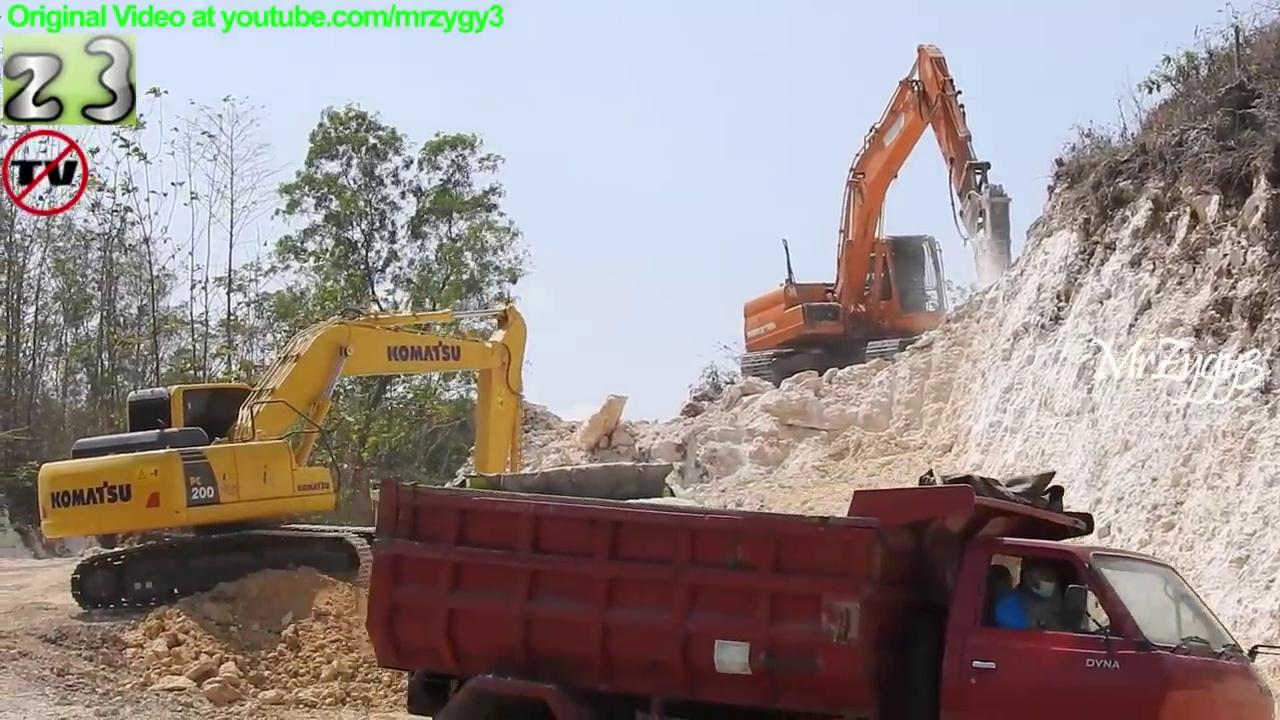excavator: (31, 288, 584, 621), (736, 37, 1029, 393)
truck: (357, 455, 1280, 720)
